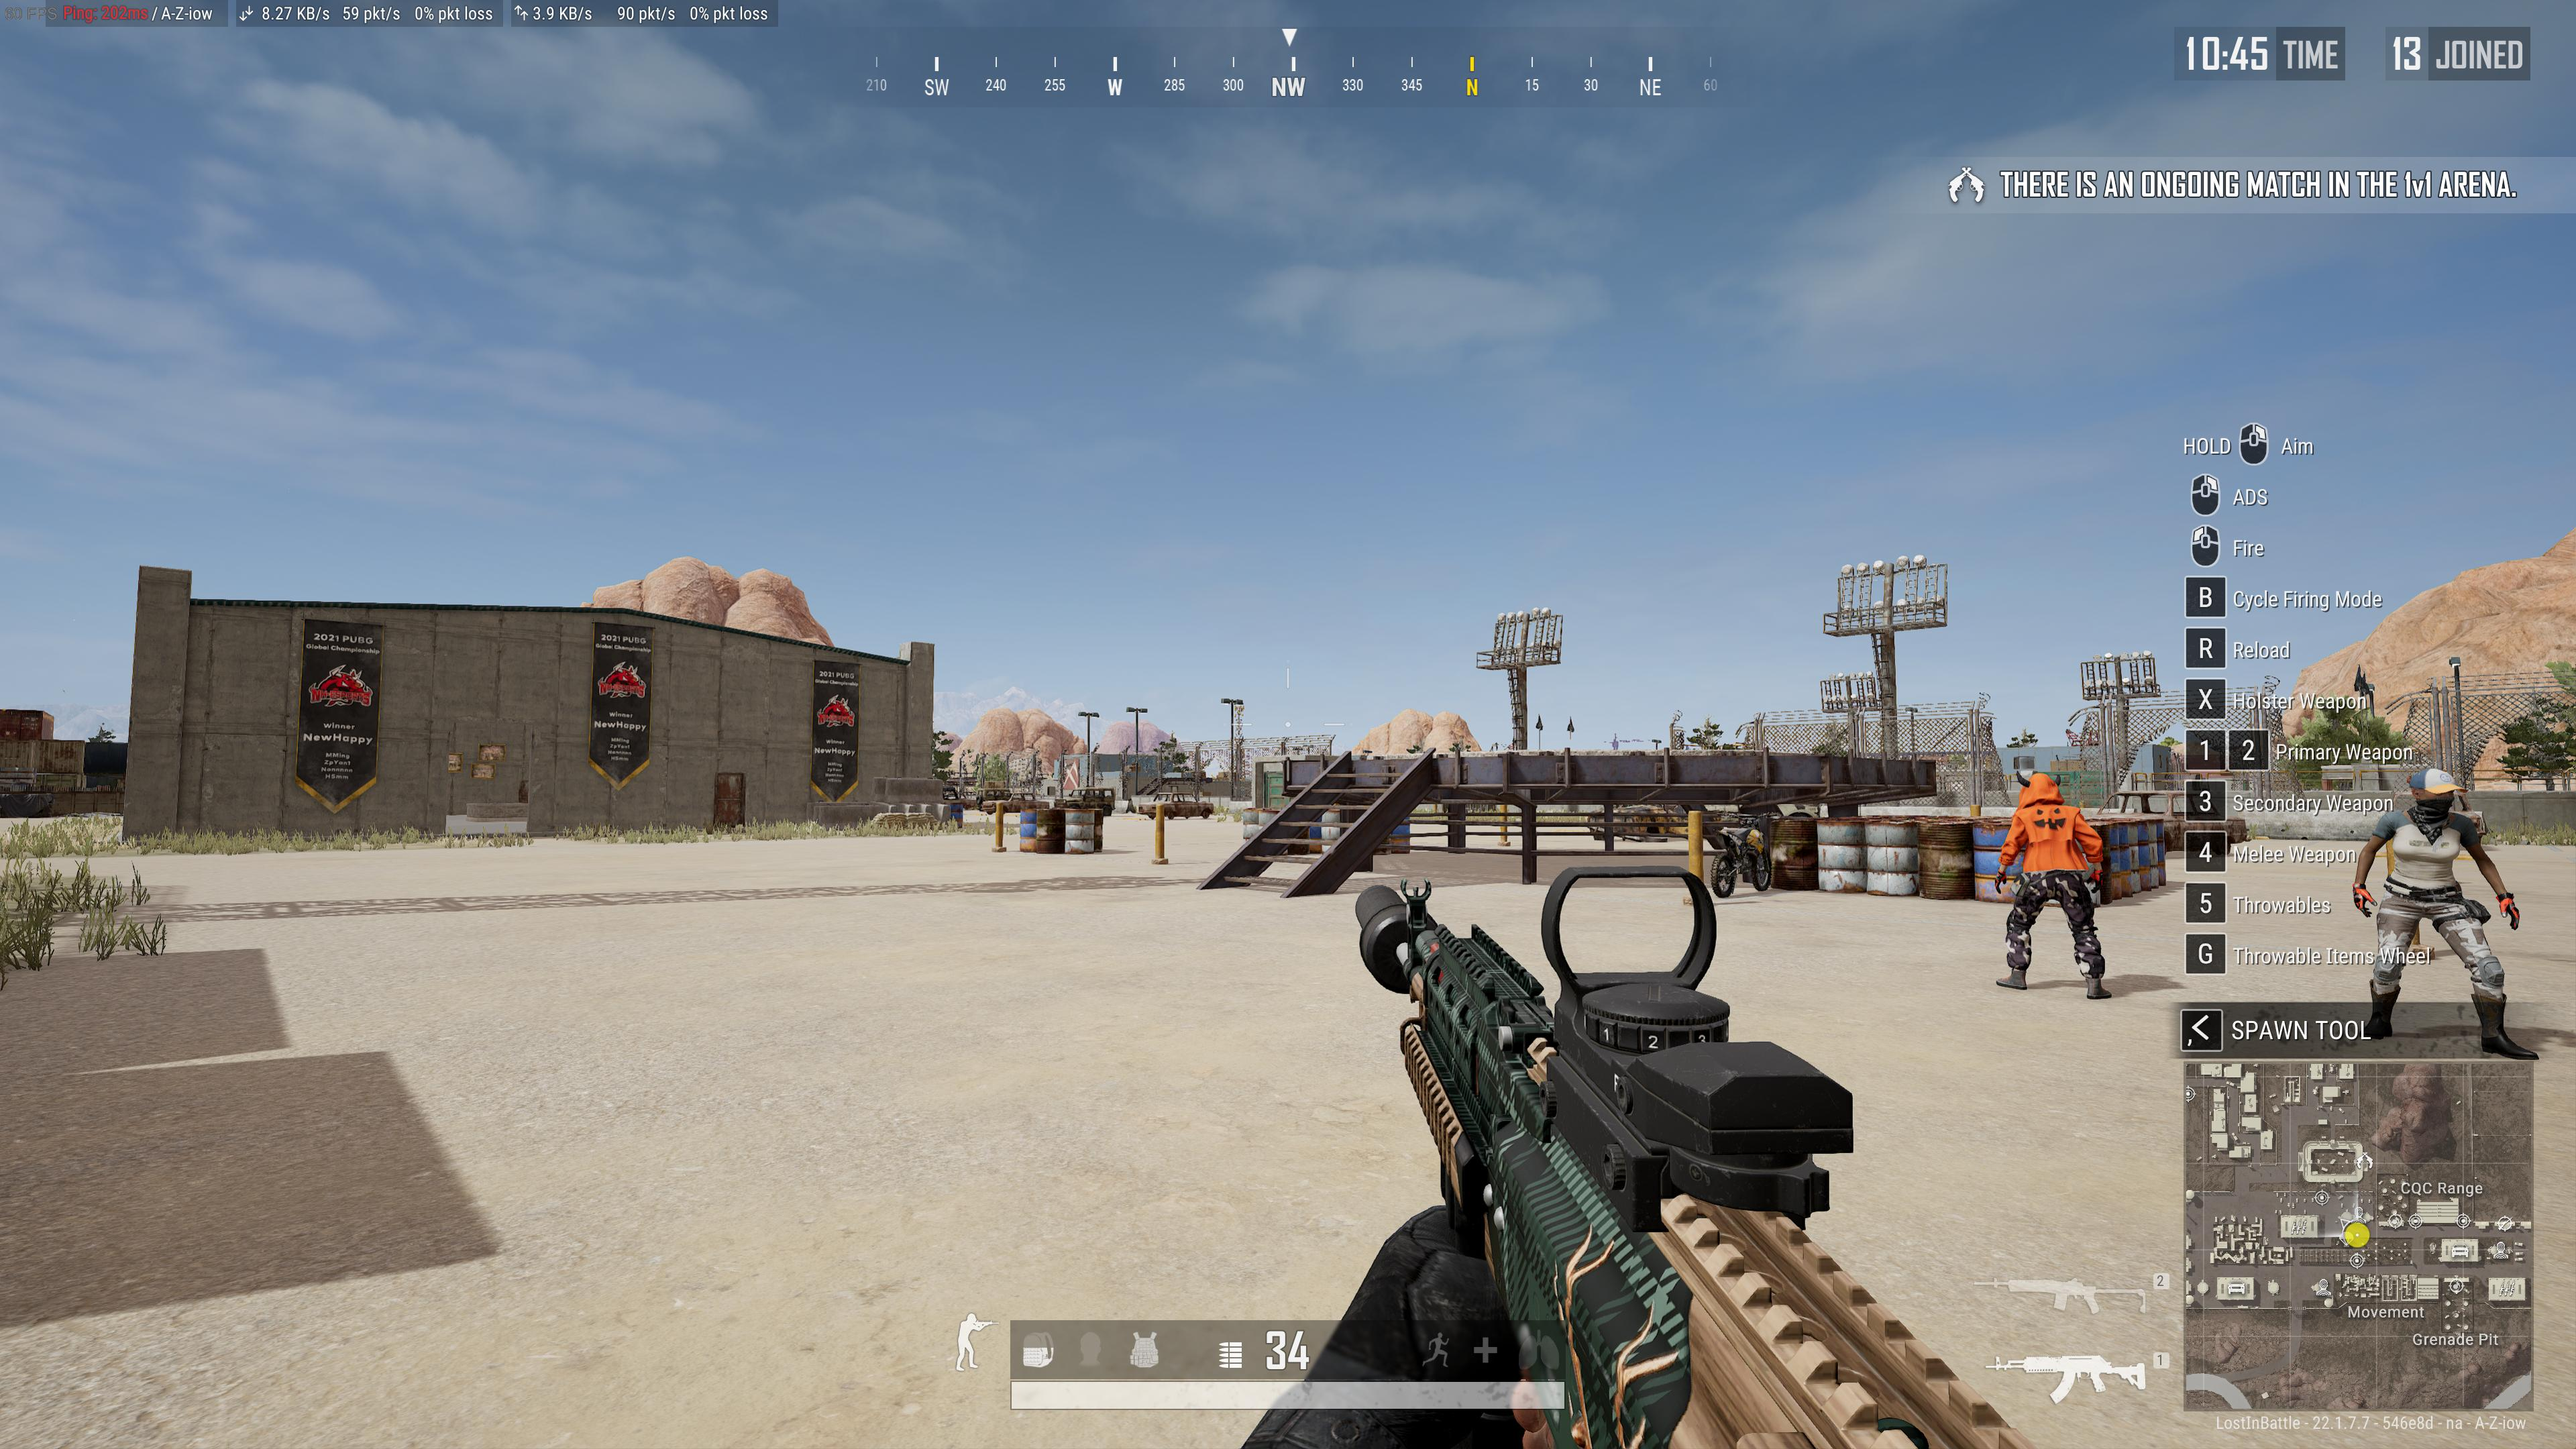enemy: (2351, 766, 2541, 1058), (1994, 770, 2112, 1000)
enemy_head: (2401, 768, 2465, 819), (2013, 770, 2065, 803)
